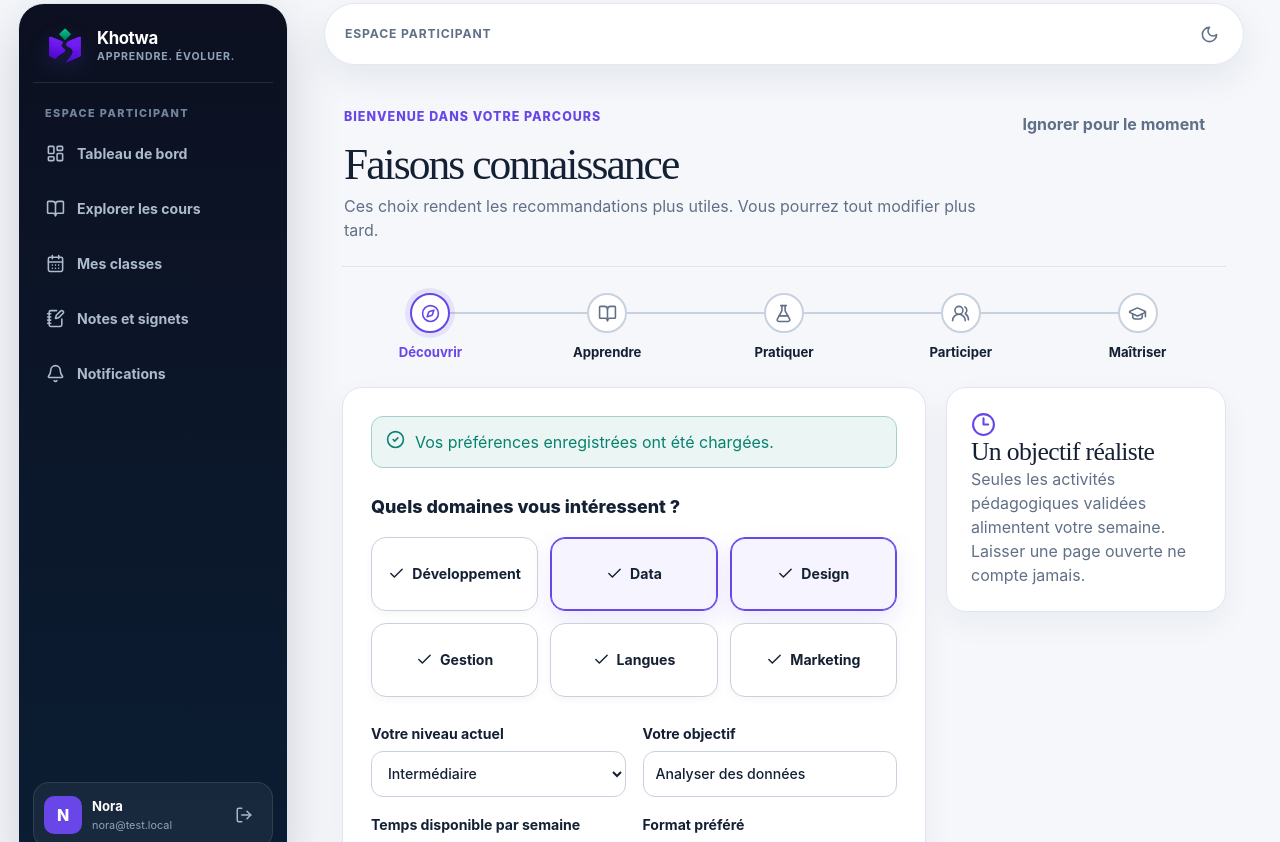
Scenario: onboarding participant › réaffiche uniquement les valeurs confirmées par le serveur après sauvegarde
Replace the text in the field with placeholder "Ex. évoluer vers un poste de développeur" with "Brouillon utilisateur". click: (770, 774)
box: [642,751,897,797]
(page scrolled)
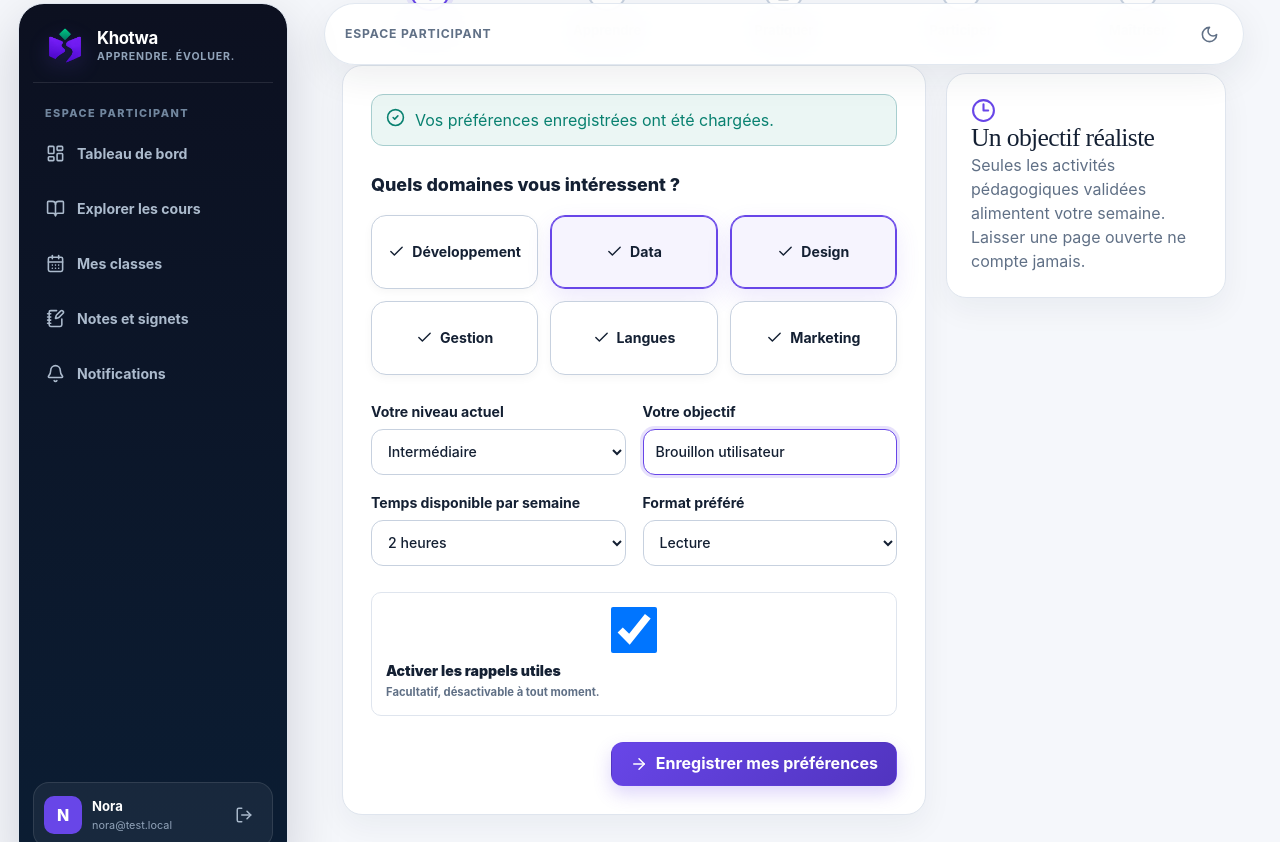
Click the button "Enregistrer mes préférences". click: (754, 764)
box: [611,742,897,786]
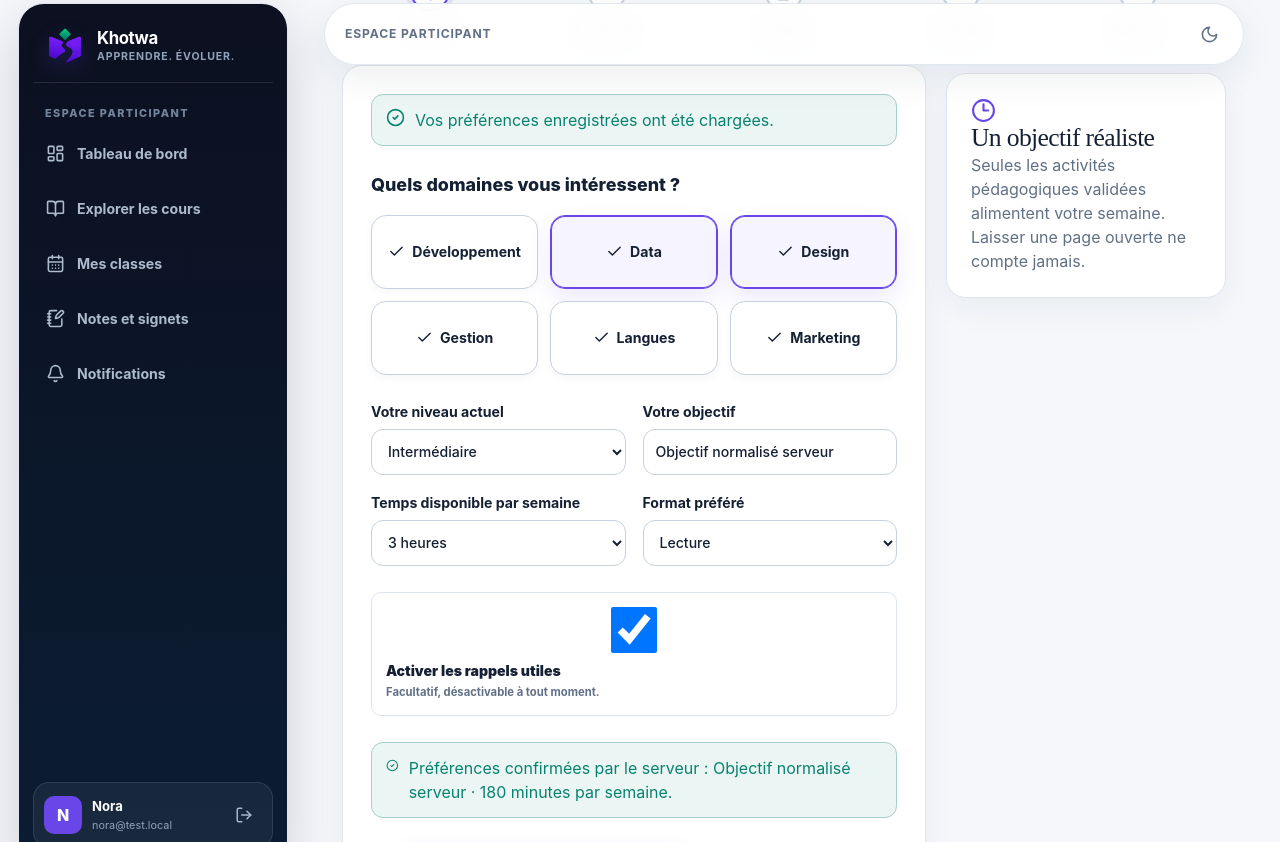
expect the text "Objectif normalisé serveur" is shown: met, box [409,758,851,802]
expect the field with placeholder "Ex. évoluer vers un poste de développeur" holds "Objectif normalisé serveur": met, box [642,429,897,475]
expect the dropdown labelled "Temps disponible par semaine" shows "3 heures": met, box [371,520,626,566]
